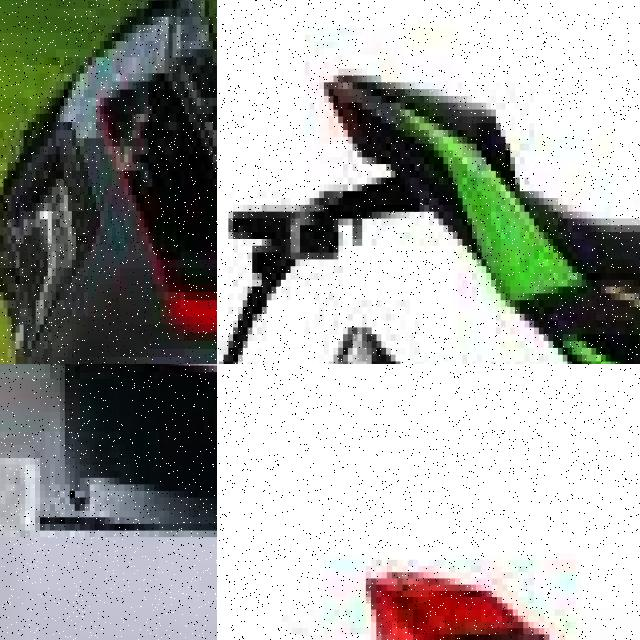bike: (217, 21, 640, 364), (0, 0, 217, 364), (292, 491, 640, 640)
car: (0, 563, 217, 640)
